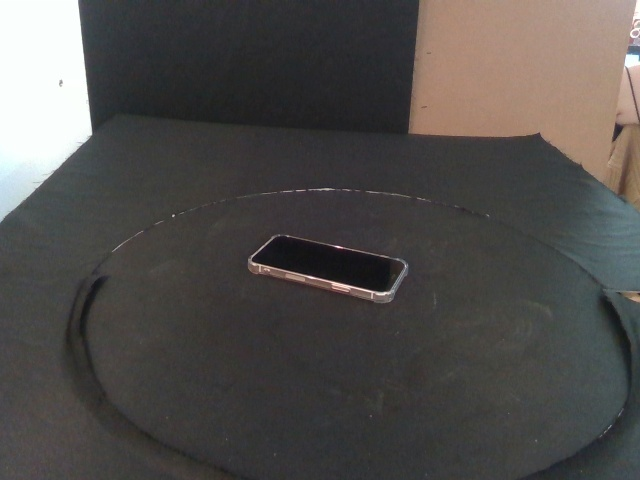phone: (247, 233, 408, 304)
